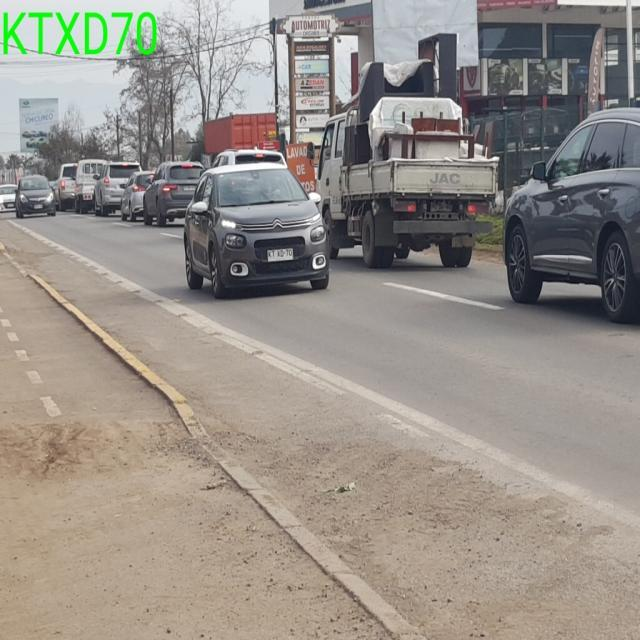16-Wheelers: (314, 35, 500, 269)
Car: (502, 106, 639, 323), (182, 160, 330, 299)
